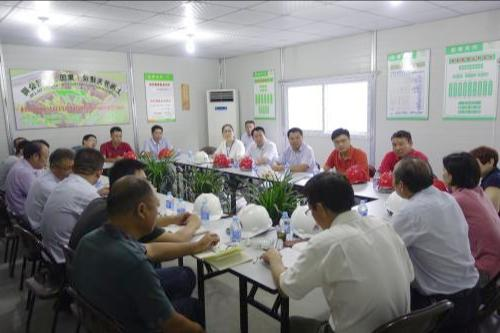no_helmet: (107, 171, 165, 231), (302, 171, 353, 227), (438, 149, 480, 194), (392, 156, 434, 198), (73, 148, 106, 187), (468, 141, 498, 177), (24, 135, 52, 169), (50, 147, 78, 178), (387, 128, 415, 155), (330, 124, 353, 155), (285, 125, 308, 151), (106, 123, 130, 146), (220, 121, 236, 145), (150, 121, 168, 141), (80, 131, 99, 149), (251, 124, 267, 145), (243, 117, 256, 135)
